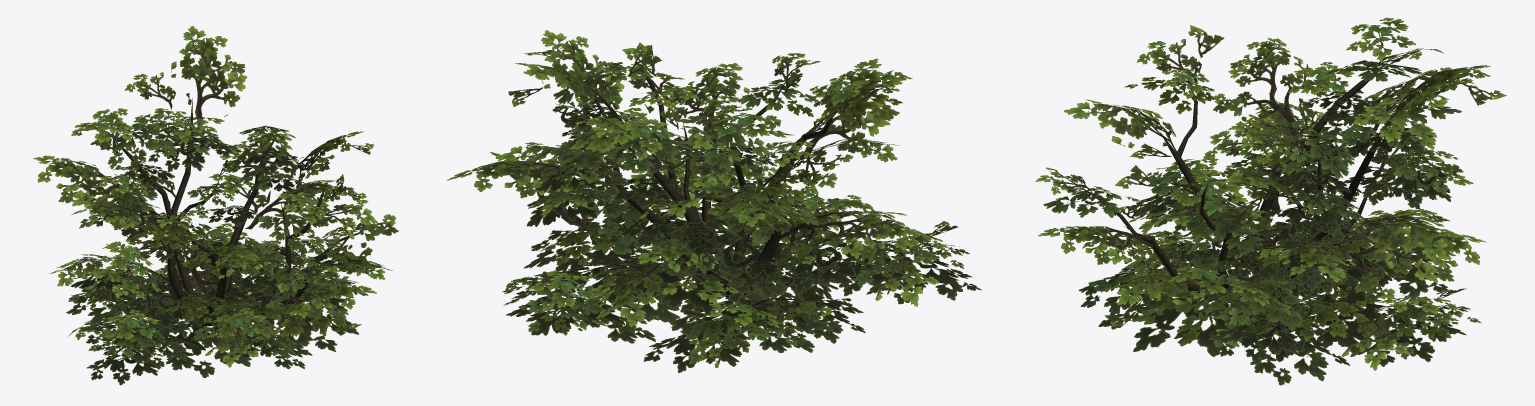
The picture shows the model from 3 angles, left to right: view 1: azimuth 30°, elevation 25°; view 2: azimuth 150°, elevation 25°; view 3: azimuth 270°, elevation 25°; orthographic projection. The views are drawn at different scales.
Parts seen in each view (by area): view 1: MS0002_02_12_01; view 2: MS0002_02_12_01; view 3: MS0002_02_12_01.
Boxes of the visible parts, x1,y1,x2,y2 form: MS0002_02_12_01: (33, 26, 398, 385); MS0002_02_12_01: (447, 30, 981, 372); MS0002_02_12_01: (1035, 17, 1506, 385).
Size of the model in its own units: 10.92 by 6.93 by 10.34.
